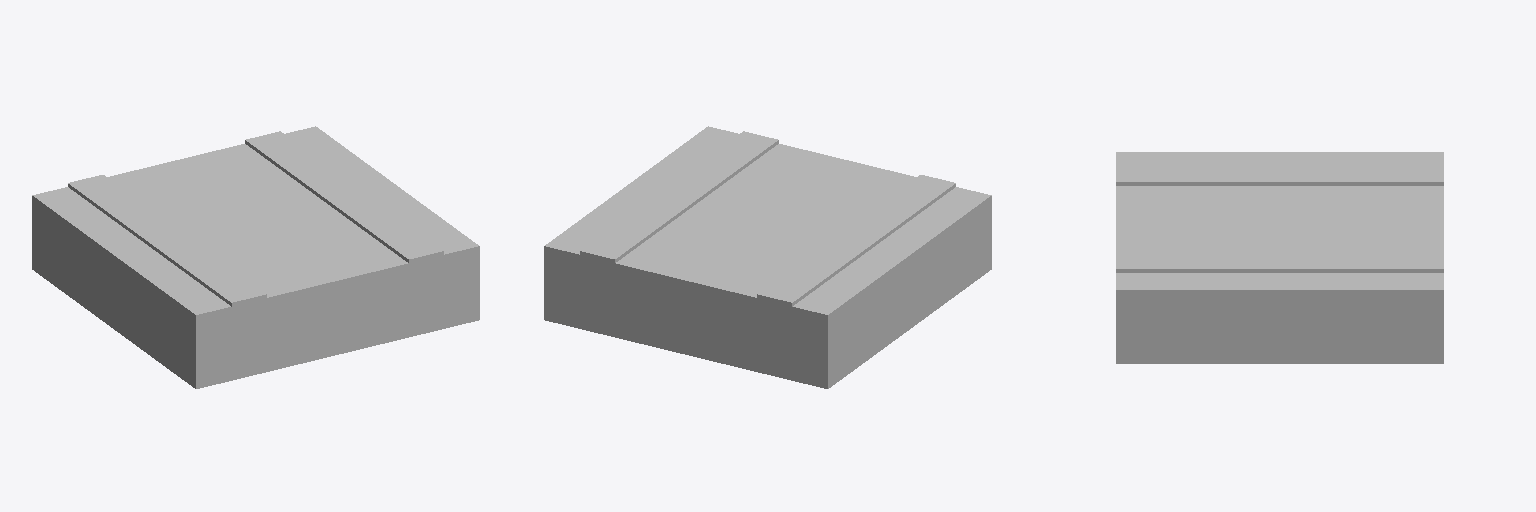
Rendered from track-straight-small.obj.
3 views of the same model, side by side, from view 1: azimuth 30°, elevation 25°; view 2: azimuth 150°, elevation 25°; view 3: azimuth 270°, elevation 25° (orthographic).
Visible parts, largest first — view 1: track-straight-small_Cube.569; view 2: track-straight-small_Cube.569; view 3: track-straight-small_Cube.569.
Part boxes in pixels (left/top/right/bottom): track-straight-small_Cube.569: left=32, top=126, right=479, bottom=388; track-straight-small_Cube.569: left=544, top=126, right=991, bottom=388; track-straight-small_Cube.569: left=1116, top=152, right=1443, bottom=363.
Bounding box in the file's own units: 8 × 2.1 × 8.